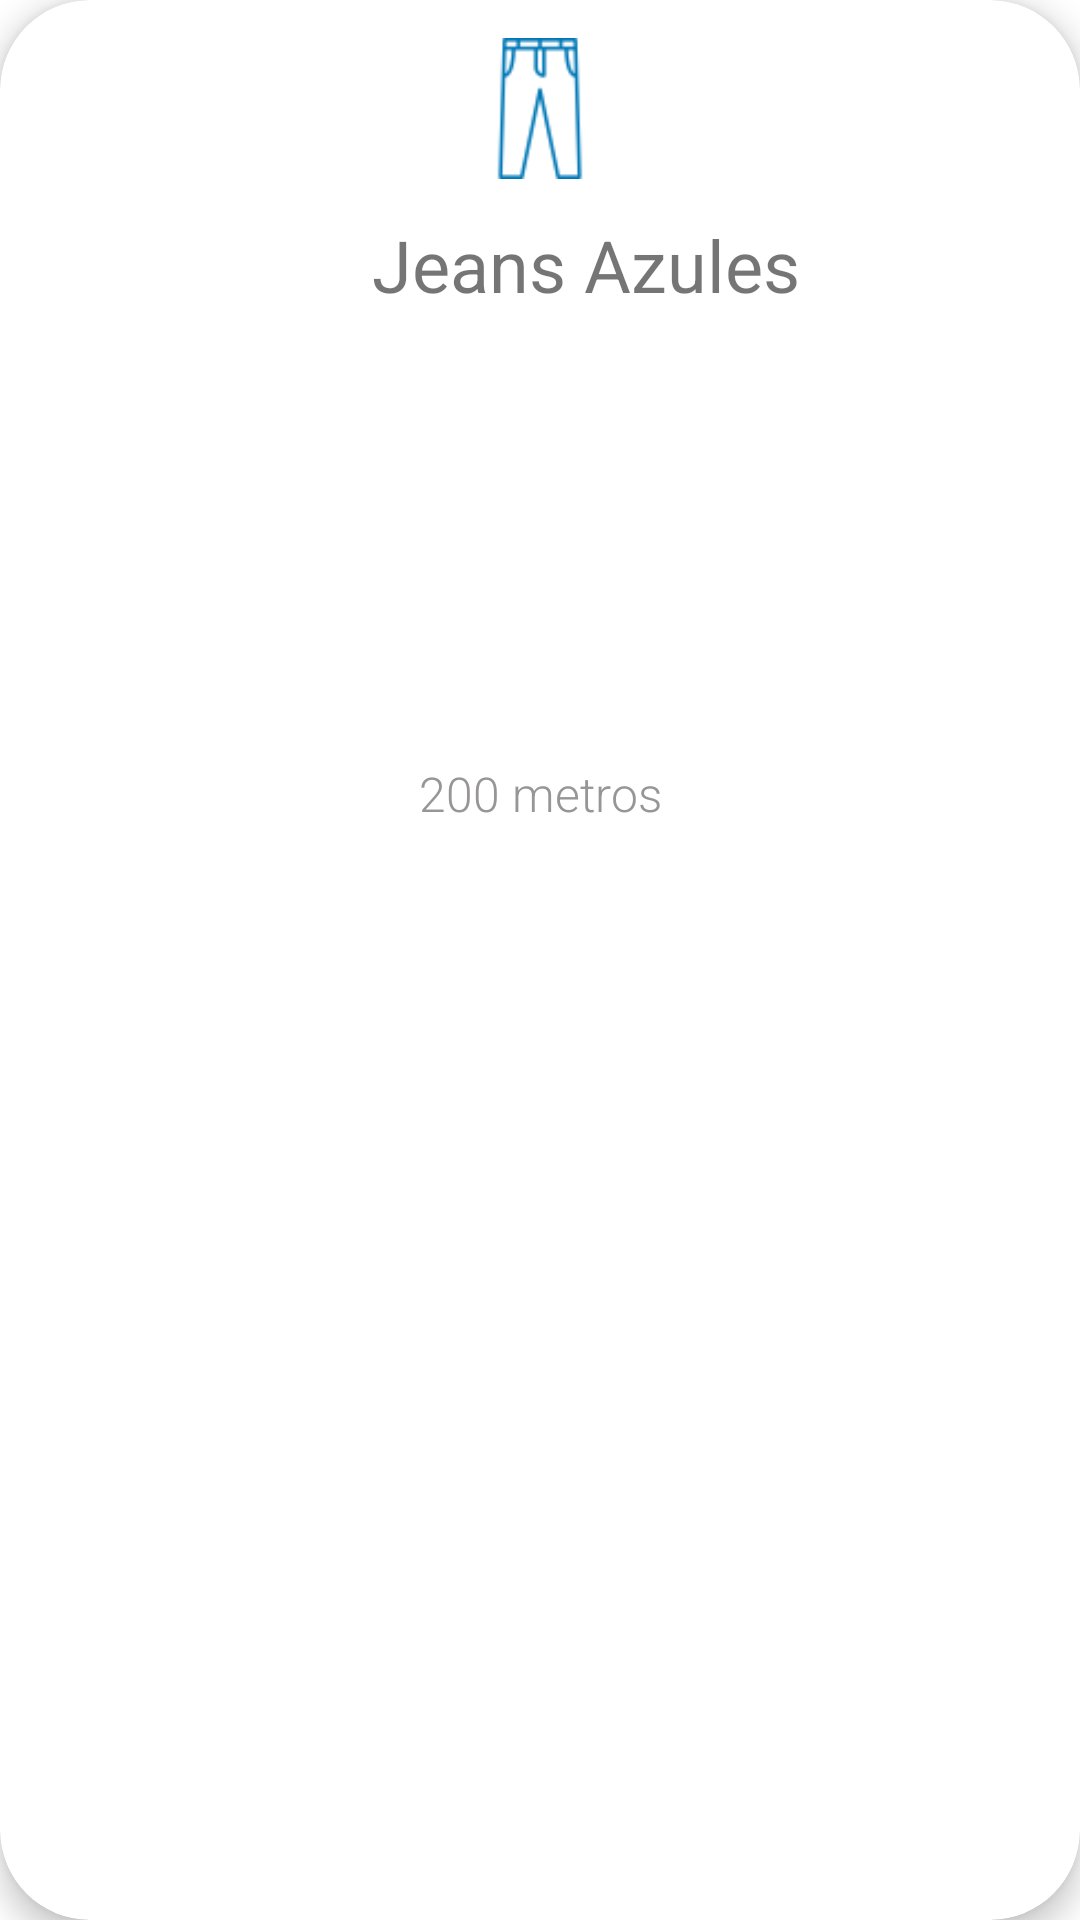

Locate icon controls on the screen. Image size 1080w x 1920h, boxes as (x1, y1, x2, y2).
product: (497, 38, 583, 179)
